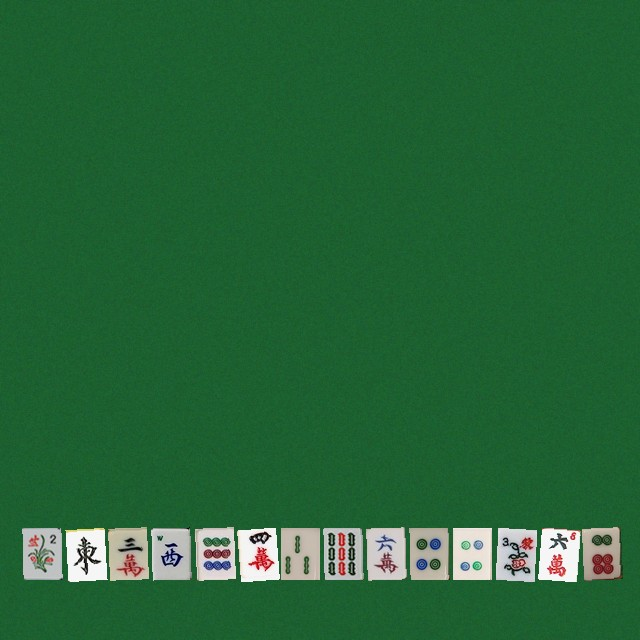tile: (22, 527, 61, 579), (65, 527, 104, 579), (108, 527, 147, 579), (151, 527, 190, 579), (194, 527, 233, 579), (237, 527, 276, 579), (280, 527, 319, 579), (323, 527, 362, 579), (366, 527, 405, 579), (409, 527, 448, 579), (452, 527, 491, 579), (495, 527, 534, 579), (538, 527, 577, 579), (581, 527, 620, 579)
